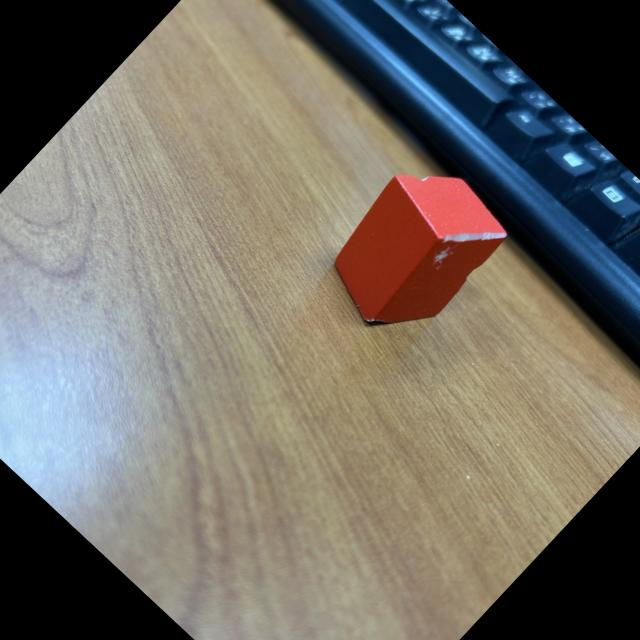broken: (306, 142, 519, 356)
